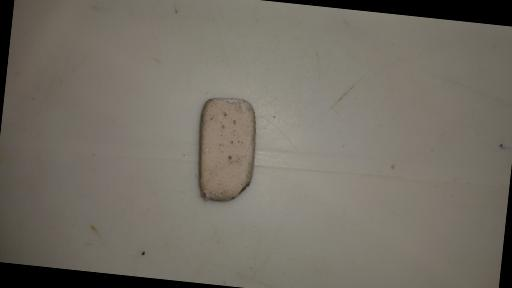Eraser: (194, 94, 260, 205)
